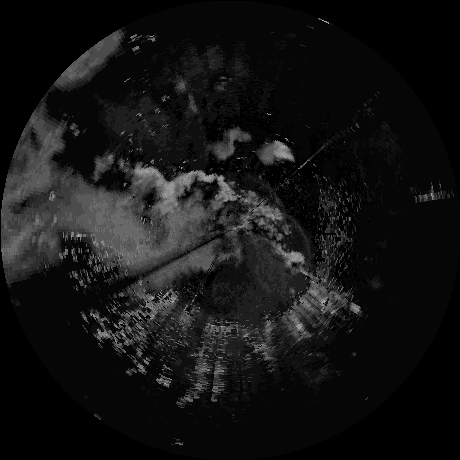frontgust: (289, 214, 311, 264), (258, 172, 283, 210)
